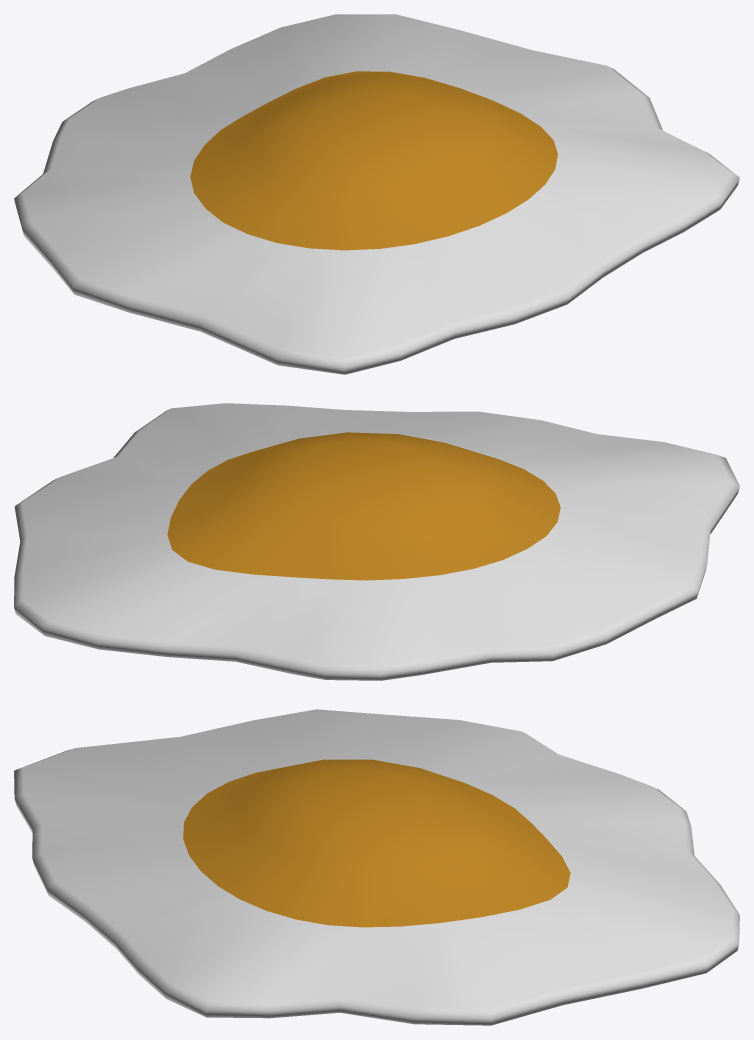
Rendered from Broken_egg.fbx.
The picture shows the model from 3 angles, top to bottom: view 1: azimuth 30°, elevation 25°; view 2: azimuth 150°, elevation 25°; view 3: azimuth 270°, elevation 25°; orthographic projection. The views are drawn at different scales.
Parts seen in each view (by area): view 1: Broken_egg; view 2: Broken_egg; view 3: Broken_egg.
Part boxes in pixels (left/top/right/bottom): Broken_egg: left=14, top=14, right=739, bottom=374; Broken_egg: left=14, top=403, right=739, bottom=680; Broken_egg: left=14, top=709, right=739, bottom=1025.
Size of the model in its own units: 3.54 by 3.53 by 0.4376.
